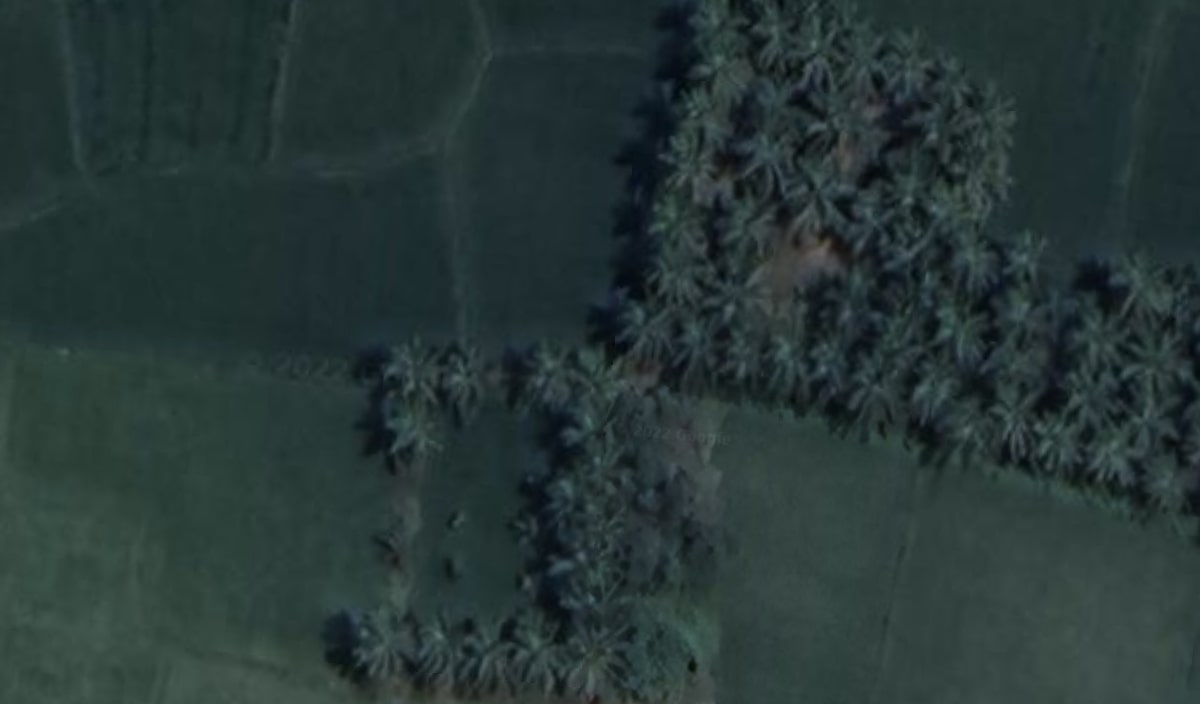coconut: (336, 600, 413, 683), (554, 549, 634, 624), (563, 629, 641, 704), (564, 336, 629, 424), (499, 613, 563, 702), (559, 491, 637, 559), (560, 430, 642, 492), (782, 156, 847, 232), (1057, 362, 1124, 435), (376, 335, 443, 404), (429, 348, 488, 426), (370, 409, 444, 471), (510, 348, 574, 419), (449, 628, 509, 702), (838, 353, 898, 427), (397, 619, 457, 689), (1027, 412, 1086, 483), (939, 232, 1003, 297), (650, 124, 719, 184), (1131, 331, 1186, 406), (954, 93, 1019, 155), (795, 21, 845, 99), (643, 251, 710, 309), (796, 336, 845, 413), (1083, 425, 1141, 489), (907, 356, 960, 424), (986, 397, 1039, 465), (1074, 311, 1134, 371), (842, 190, 897, 255), (611, 304, 669, 364), (718, 197, 772, 257), (738, 130, 788, 194), (881, 33, 930, 97), (670, 320, 720, 381), (760, 329, 798, 402), (925, 49, 972, 106), (714, 324, 755, 384)
